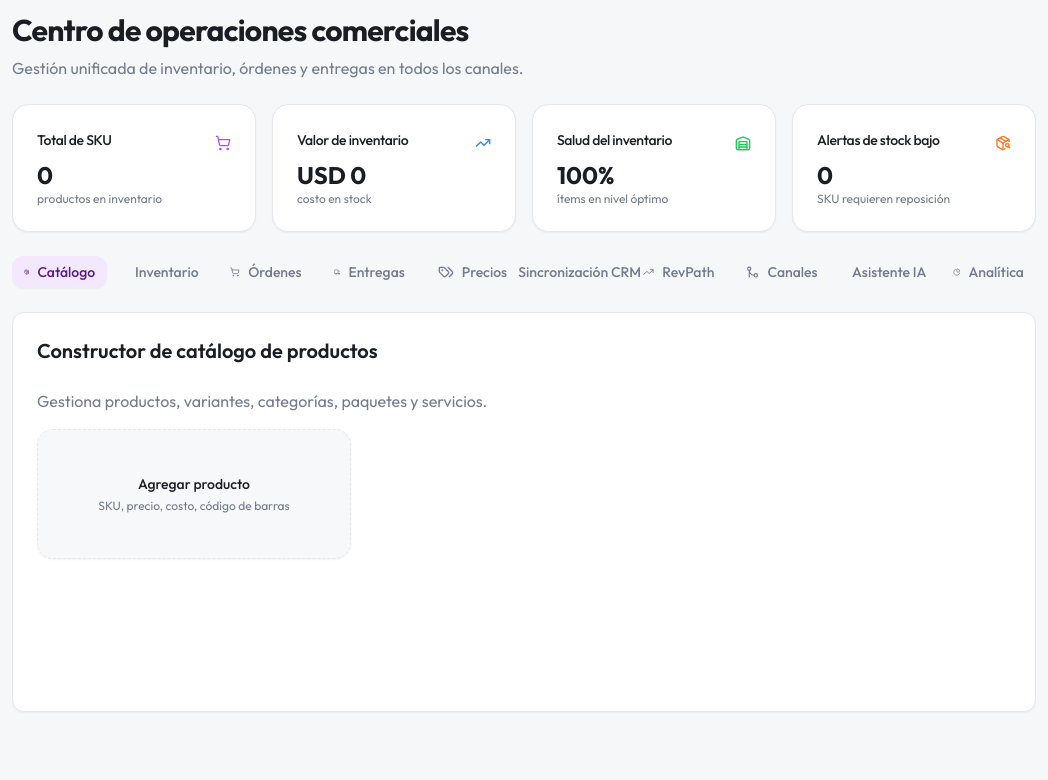
Scenario: InventoryOrders, in Spanish › explains an empty inventory
Press the mouse on the tab "Inventario" at coordinates (163, 272), box top-left (115, 256), bottom-right (210, 288)
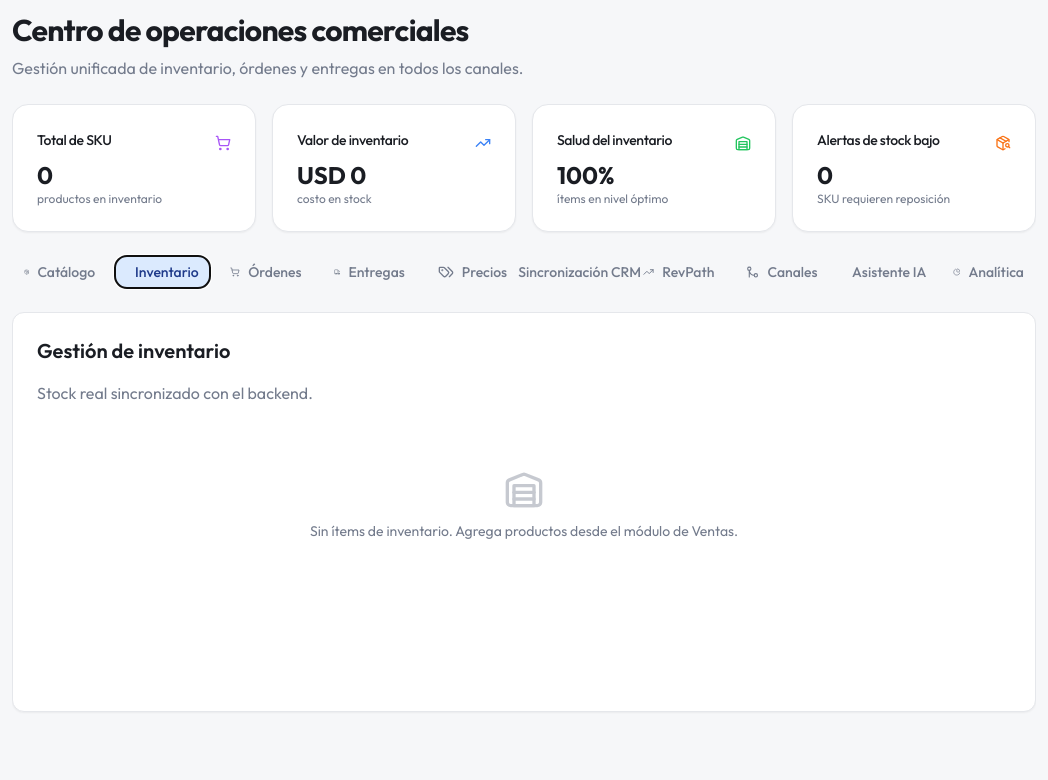
expect the text "Sin ítems de inventario. Agrega productos desde el módulo de Ventas." is shown: met, box top-left (310, 522), bottom-right (738, 540)
